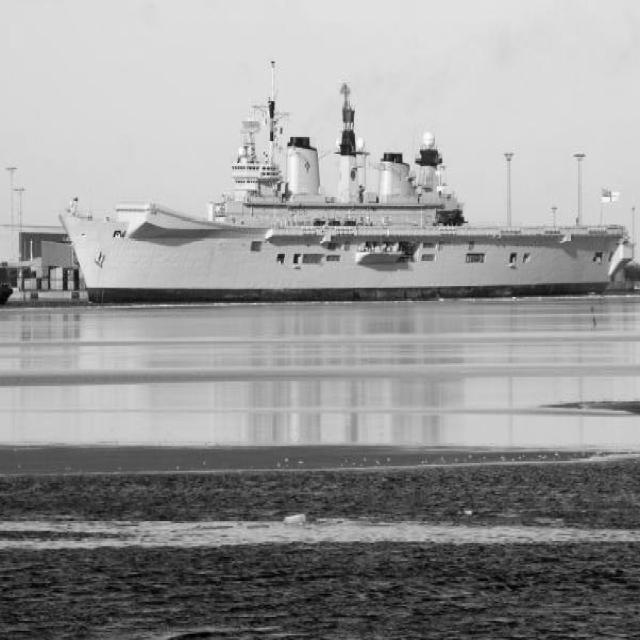Portanaves: (61, 87, 636, 313)
